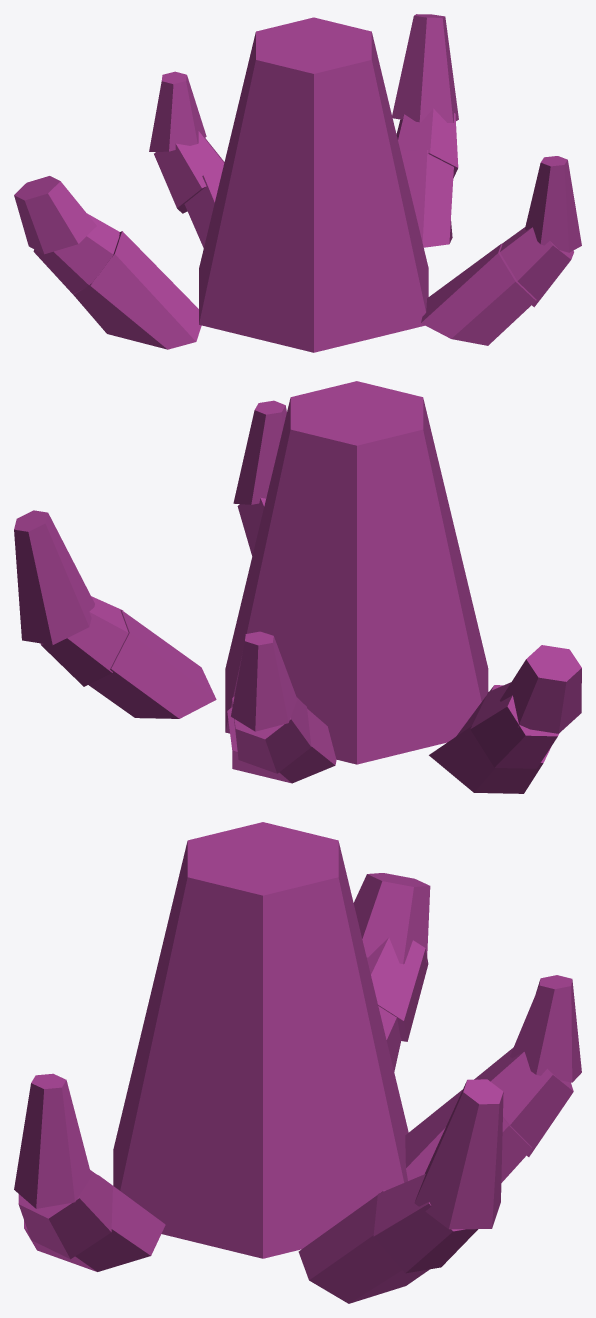
File: SM_Prop_Shrine_01_Collision.fbx
3 renders of one model, top to bottom at view 1: azimuth 30°, elevation 25°; view 2: azimuth 150°, elevation 25°; view 3: azimuth 270°, elevation 25°, orthographic. The views are drawn at different scales.
Visible parts, largest first — view 1: SM_Prop_Shrine_01_Collision; view 2: SM_Prop_Shrine_01_Collision; view 3: SM_Prop_Shrine_01_Collision.
Boxes of the visible parts, <box> form: SM_Prop_Shrine_01_Collision: <box>14,14,581,352</box>; SM_Prop_Shrine_01_Collision: <box>14,381,581,793</box>; SM_Prop_Shrine_01_Collision: <box>14,822,581,1303</box>.
Bounding box in the file's own units: 331 × 184 × 272.
